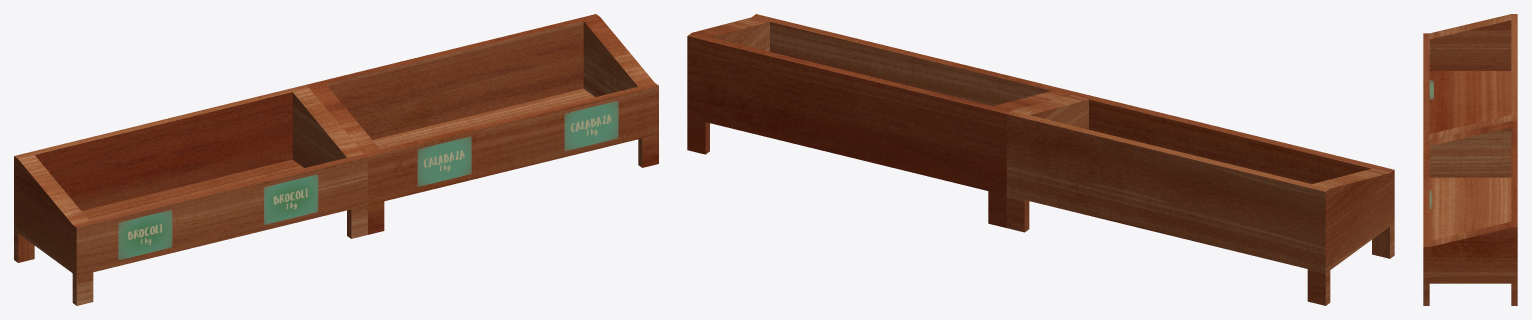
File: Frutero_uvs.fbx
3 renders of one model, left to right at view 1: azimuth 30°, elevation 25°; view 2: azimuth 150°, elevation 25°; view 3: azimuth 270°, elevation 25°, orthographic. The views are drawn at different scales.
Visible parts, largest first — view 1: Gabineta_Lateral; view 2: Gabineta_Lateral; view 3: Gabineta_Lateral.
Part boxes in pixels (left/top/right/bottom): Gabineta_Lateral: left=14, top=14, right=658, bottom=305; Gabineta_Lateral: left=687, top=14, right=1394, bottom=305; Gabineta_Lateral: left=1423, top=14, right=1517, bottom=305.
Bounding box in the file's own units: 555 × 94.8 × 104.
1 material, 1 textured.
